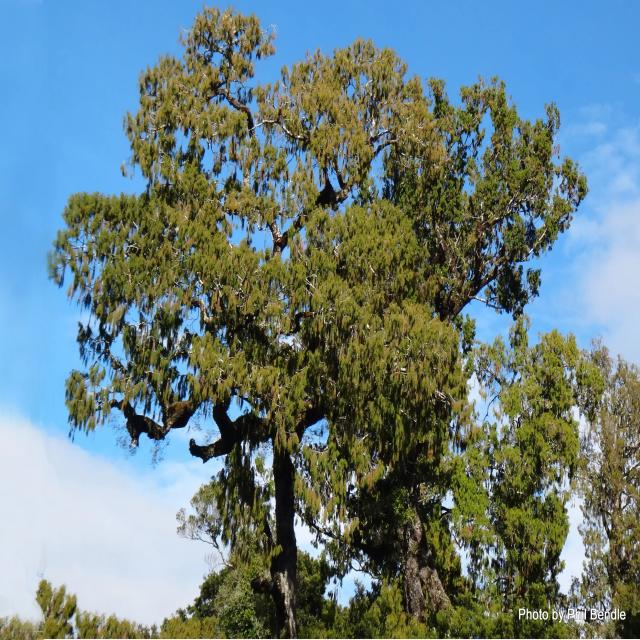Rimu: (44, 10, 589, 629)
